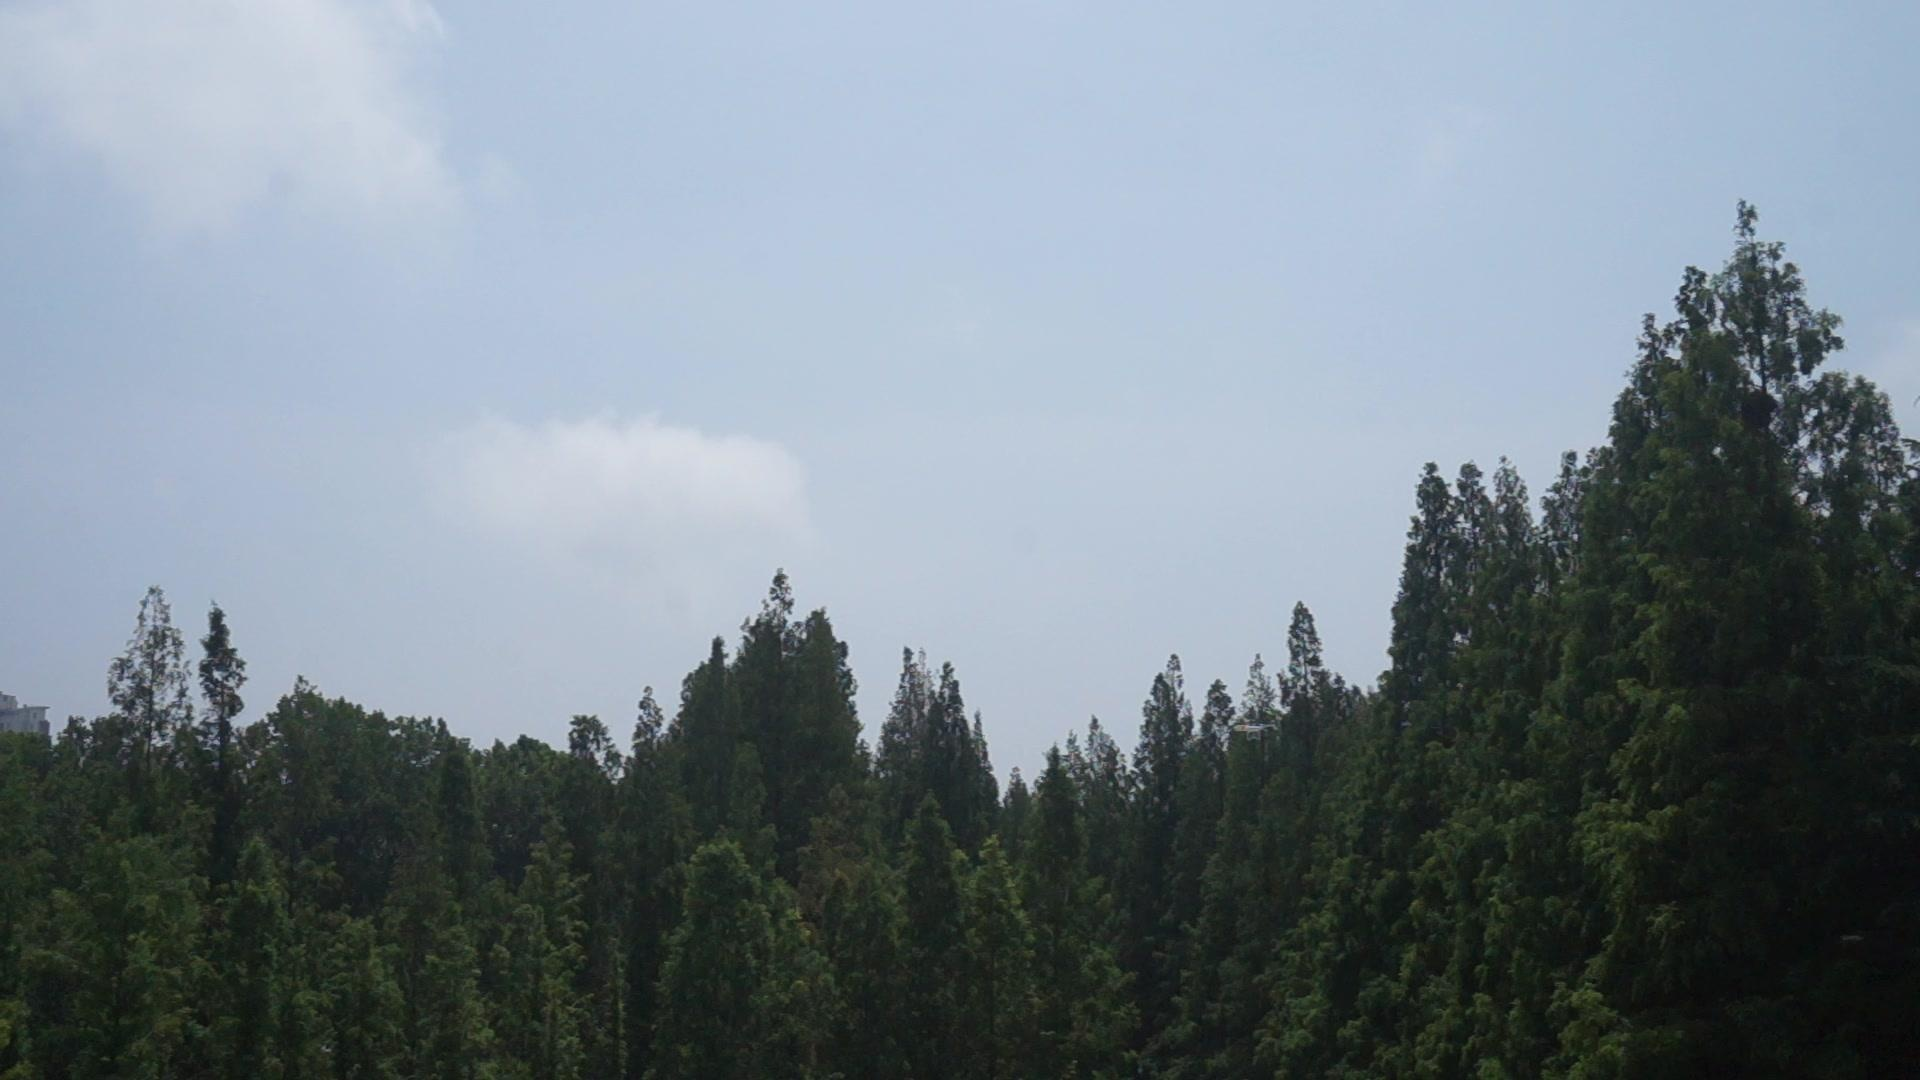UAV: (1236, 725, 1275, 741)
